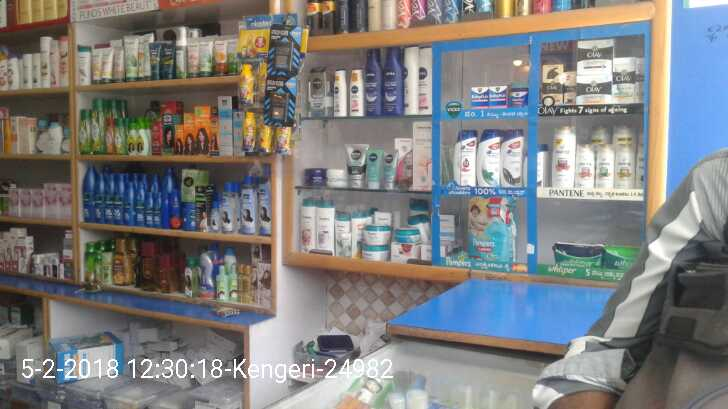beauty: (572, 37, 618, 78), (500, 129, 527, 194), (549, 127, 574, 192), (450, 131, 477, 189), (474, 131, 499, 193), (569, 137, 595, 189), (612, 56, 641, 102), (590, 141, 617, 186), (615, 141, 638, 191), (575, 77, 611, 102), (540, 65, 563, 101)
pharmacy: (462, 194, 518, 264), (545, 239, 636, 269), (467, 86, 490, 110), (506, 83, 527, 107), (487, 84, 507, 107)
